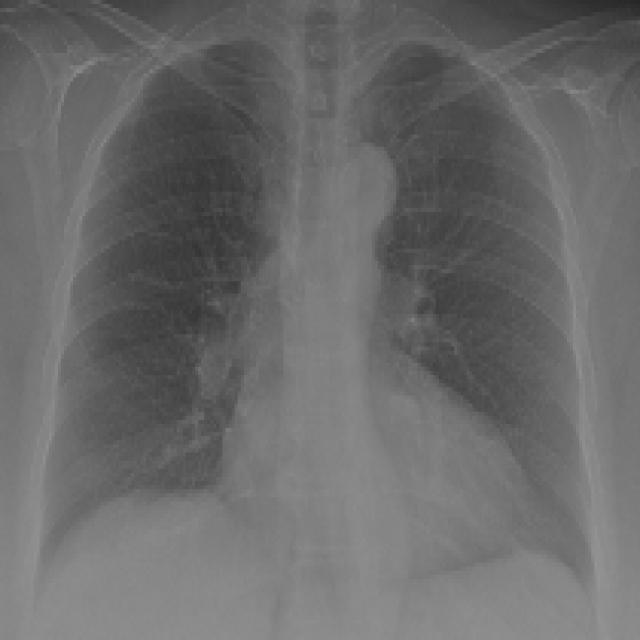coronavirus: (3, 0, 640, 640)
